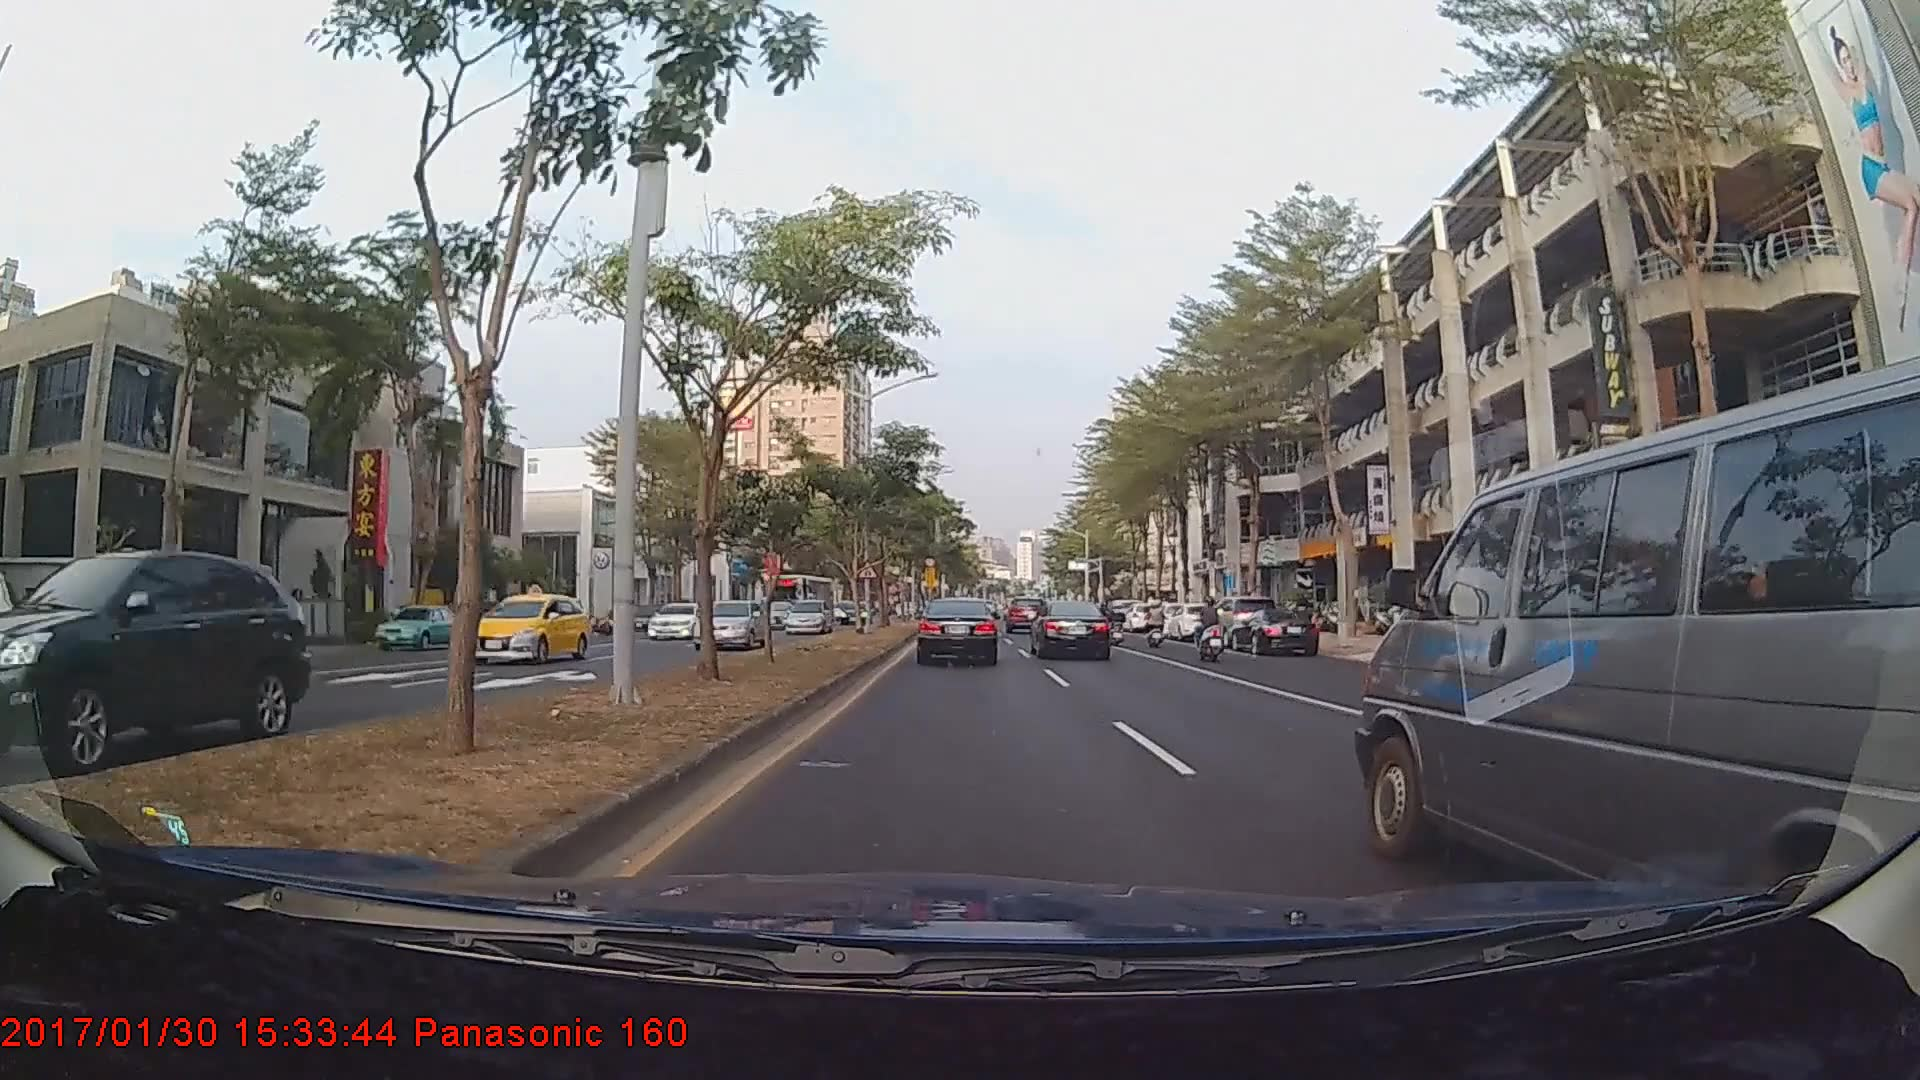rider: (1190, 592, 1236, 663), (1143, 588, 1172, 645)
vehicle: (1349, 404, 1903, 912), (0, 548, 313, 774), (464, 591, 588, 665), (917, 595, 1000, 668), (1031, 600, 1111, 661), (762, 571, 838, 628), (371, 603, 463, 649), (1203, 593, 1279, 647), (1231, 605, 1319, 653), (692, 596, 767, 648), (647, 601, 701, 643), (1164, 601, 1219, 639), (784, 595, 831, 633), (1006, 593, 1046, 630), (836, 598, 868, 622)
